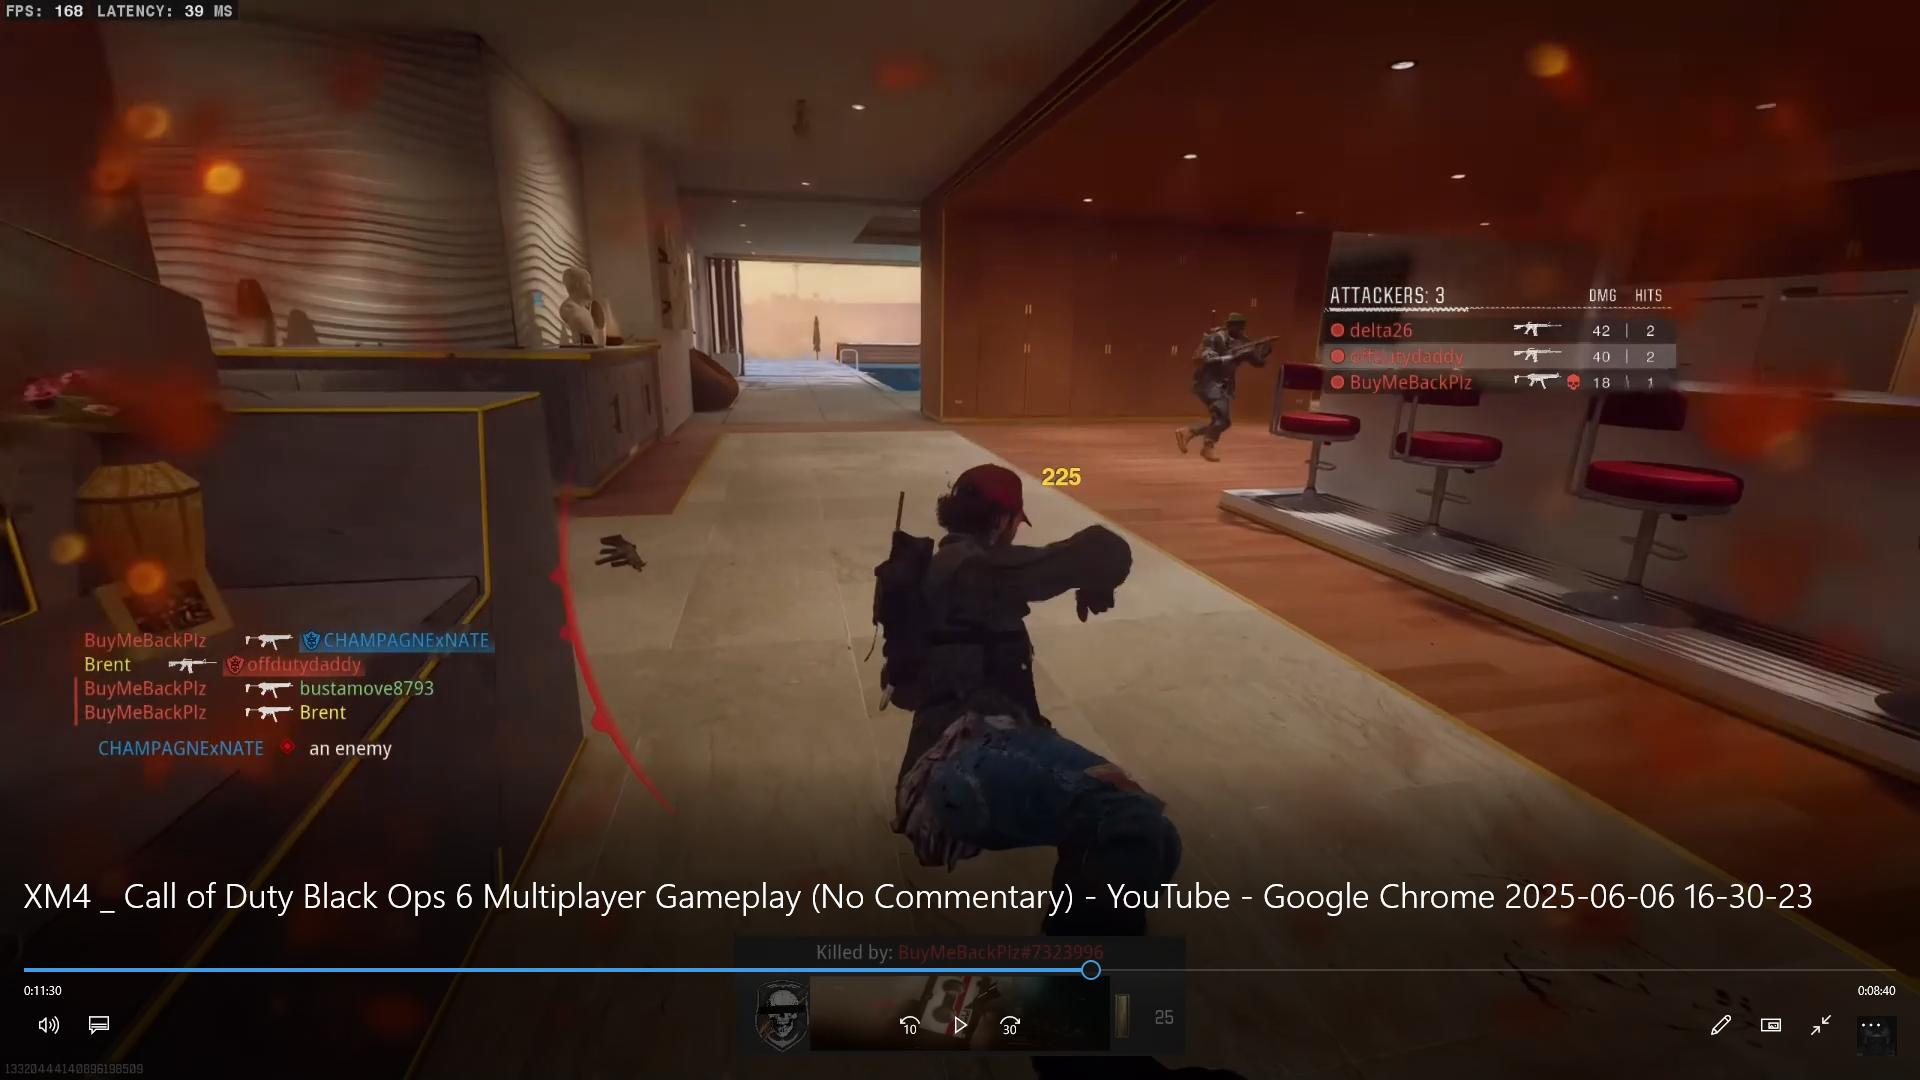Enemy: (1178, 290, 1280, 464)
